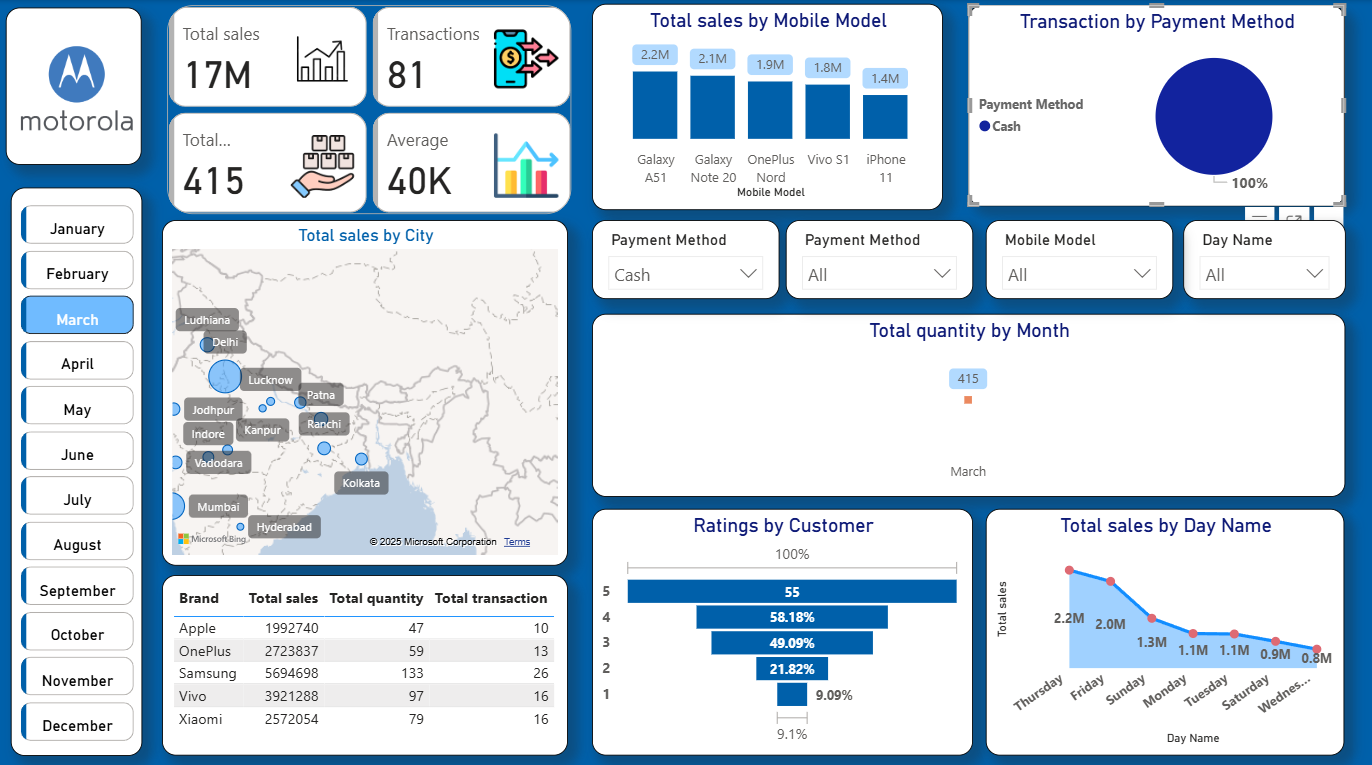

The dashboard page shown, as its layout file describes it:
{"tool":"powerbi","page":{"name":"Page 1","canvas":[1280,720],"ordinal":0},"visuals":[{"type":"shape","box":[8.6,7.4,126.4,146],"z":0},{"type":"image","box":[14,7,114,150],"z":1000},{"type":"shape","box":[12.3,174.2,122.7,528.8],"z":2000},{"type":"advancedSlicerVisual","fields":{"Values":["Sales_data.Date.Variation.Date Hierarchy.Month"]},"box":[17.2,186.5,115.3,516.6],"z":3000},{"type":"cardVisual","fields":{"Data":["Sales_data.Total sales","Sales_data.Total quantity","Sales_data.Total quantity1","Sales_data.Average"]},"box":[153.4,0,386.5,204.9],"z":4000},{"type":"map","fields":{"Category":["Sales_data.City"],"Size":["Sales_data.Total sales"]},"box":[153.4,204.9,377.9,321.5],"z":5000},{"type":"lineChart","fields":{"Y":["Sales_data.Total quantity"],"Category":["Sales_data.Date.Variation.Date Hierarchy.Month","Sales_data.Date.Variation.Date Hierarchy.Day"]},"box":[553.4,292,700.6,170.6],"z":6000},{"type":"clusteredColumnChart","fields":{"Category":["Sales_data.Mobile Model"],"Y":["Sales_data.Total sales"]},"box":[553.5,3.5,326.7,191.9],"z":7000},{"type":"pieChart","fields":{"Y":["Sales_data.Total transaction"],"Category":["Sales_data.Payment Method"]},"box":[903.5,4.7,350,187.2],"z":8000},{"type":"funnel","fields":{"Category":["Sales_data.Customer Ratings"],"Y":["Sum(Sales_data.Customer Ratings)"]},"box":[553.4,473.6,354.6,229.4],"z":9000},{"type":"stackedAreaChart","fields":{"Category":["Sales_data.Day Name"],"Y":["Sales_data.Total sales"]},"box":[920.3,473.6,333.7,229.4],"z":10000},{"type":"tableEx","fields":{"Values":["Sales_data.Brand","Sales_data.Total sales","Sales_data.Total quantity","Sales_data.Total transaction"]},"box":[153.4,535,377.9,168.1],"z":11000},{"type":"slicer","fields":{"Values":["Sales_data.Day Name"]},"box":[1103.1,204.9,150.9,73.6],"z":12000},{"type":"slicer","fields":{"Values":["Sales_data.Payment Method"]},"box":[553.4,204.9,174.2,73.6],"z":13000},{"type":"slicer","fields":{"Values":["Sales_data.Payment Method"]},"box":[733.7,204.9,174.2,73.6],"z":14000},{"type":"slicer","fields":{"Values":["Sales_data.Mobile Model"]},"box":[920.3,204.9,174.2,73.6],"z":15000}]}

Visuals, with their boxes in screenshot pixels (x1, y1, x2, y2), scaled from the page's 1280x720 canvas onto the 1372x765 screenshot:
shape: 9/8/145/163
image: 15/7/137/167
shape: 13/185/145/747
advancedSlicerVisual - Sales_data.Date.Variation.Date Hierarchy.Month: 18/198/142/747
cardVisual - Sales_data.Total sales x Sales_data.Total quantity: 164/0/579/218
map - Sales_data.City x Sales_data.Total sales: 164/218/569/559
lineChart - Sales_data.Total quantity x Sales_data.Date.Variation.Date Hierarchy.Month: 593/310/1344/492
clusteredColumnChart - Sales_data.Mobile Model x Sales_data.Total sales: 593/4/943/208
pieChart - Sales_data.Total transaction x Sales_data.Payment Method: 968/5/1344/204
funnel - Sales_data.Customer Ratings x Sum(Sales_data.Customer Ratings): 593/503/973/747
stackedAreaChart - Sales_data.Day Name x Sales_data.Total sales: 986/503/1344/747
tableEx - Sales_data.Brand x Sales_data.Total sales: 164/568/569/747
slicer - Sales_data.Day Name: 1182/218/1344/296
slicer - Sales_data.Payment Method: 593/218/780/296
slicer - Sales_data.Payment Method: 786/218/973/296
slicer - Sales_data.Mobile Model: 986/218/1173/296
